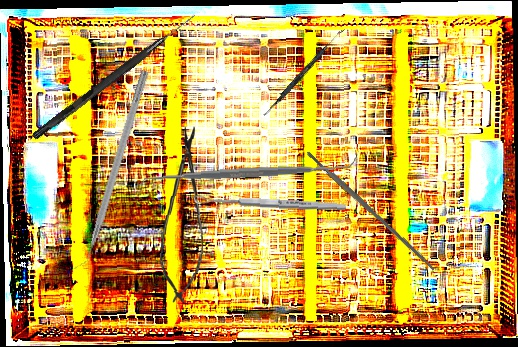Chopper: (68, 66, 150, 274)
Hook Surgical: (31, 9, 198, 143)
Micro Scissor: (157, 122, 210, 308)
Scalpel Handle: (305, 149, 437, 272)
Spatula Surgical: (139, 154, 359, 190), (263, 25, 345, 119)
Surgical Spoon: (193, 194, 347, 212)
